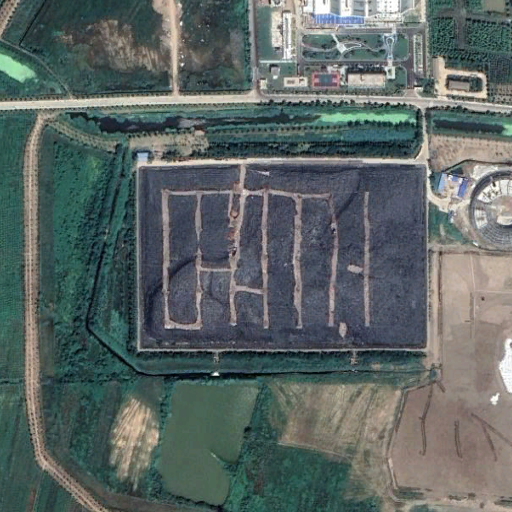lf: (137, 160, 426, 356)
